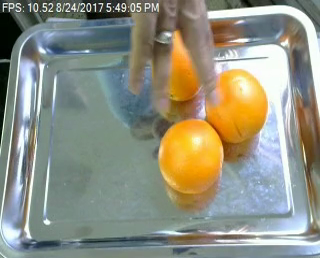Orange: (158, 117, 224, 194)
